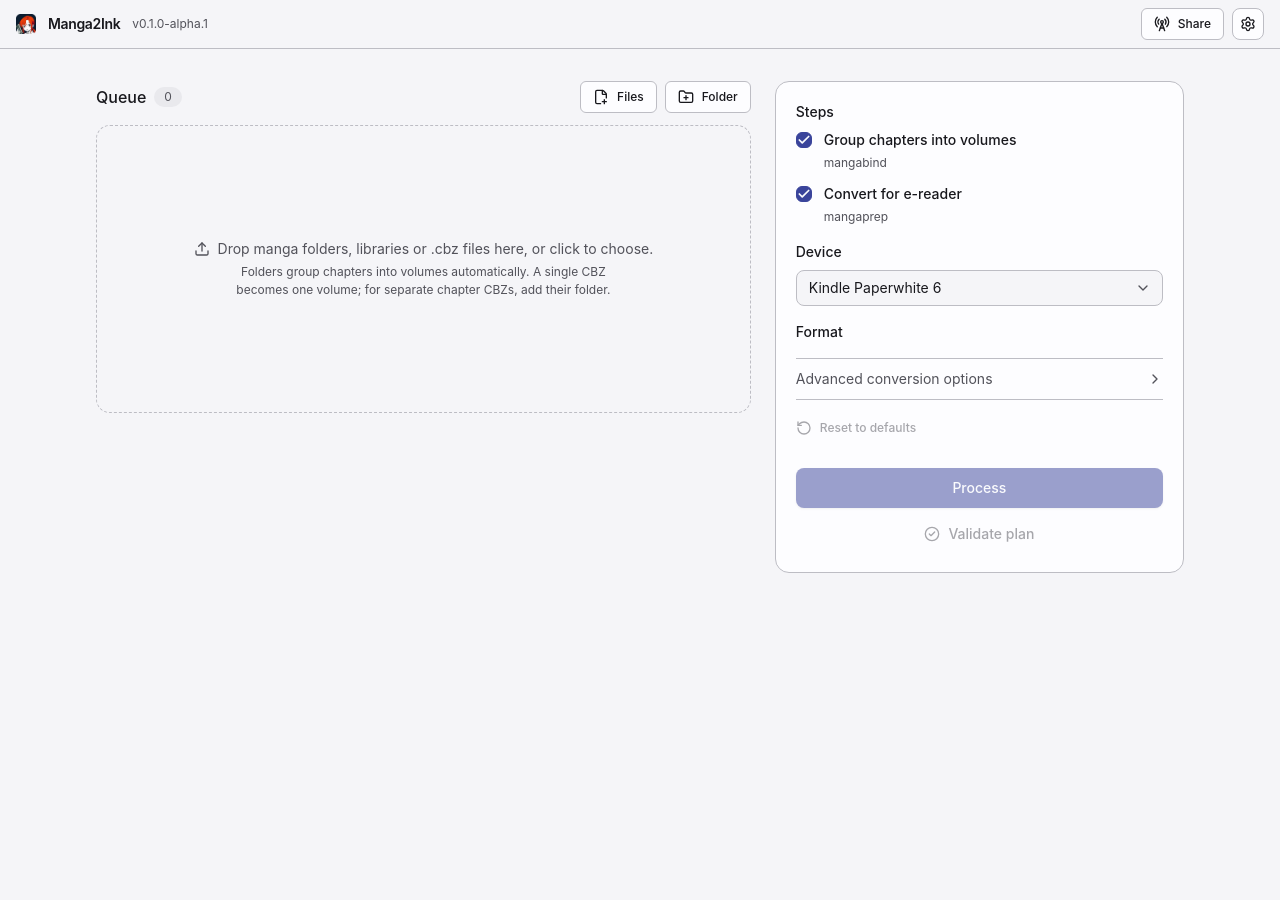
Test: libraries in the queue › is left out, with the reason, next to a folder when the run does not group
Click the button "Folder": [708, 97] box x1=665 y1=81 x2=751 y2=113
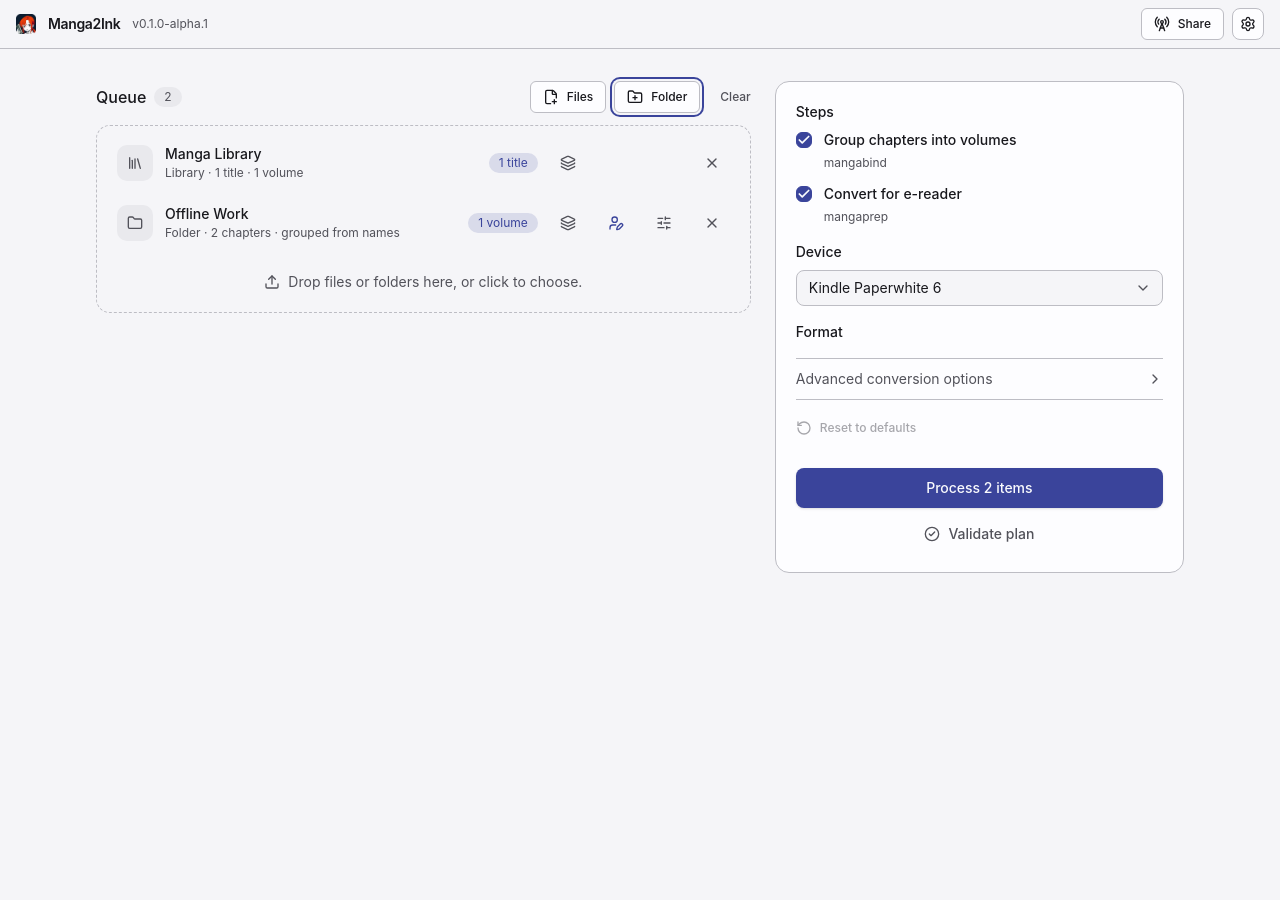
Click the checkbox named "Group chapters into volumes" next to "Group chapters into volumes": [804, 140] box x1=796 y1=132 x2=812 y2=148
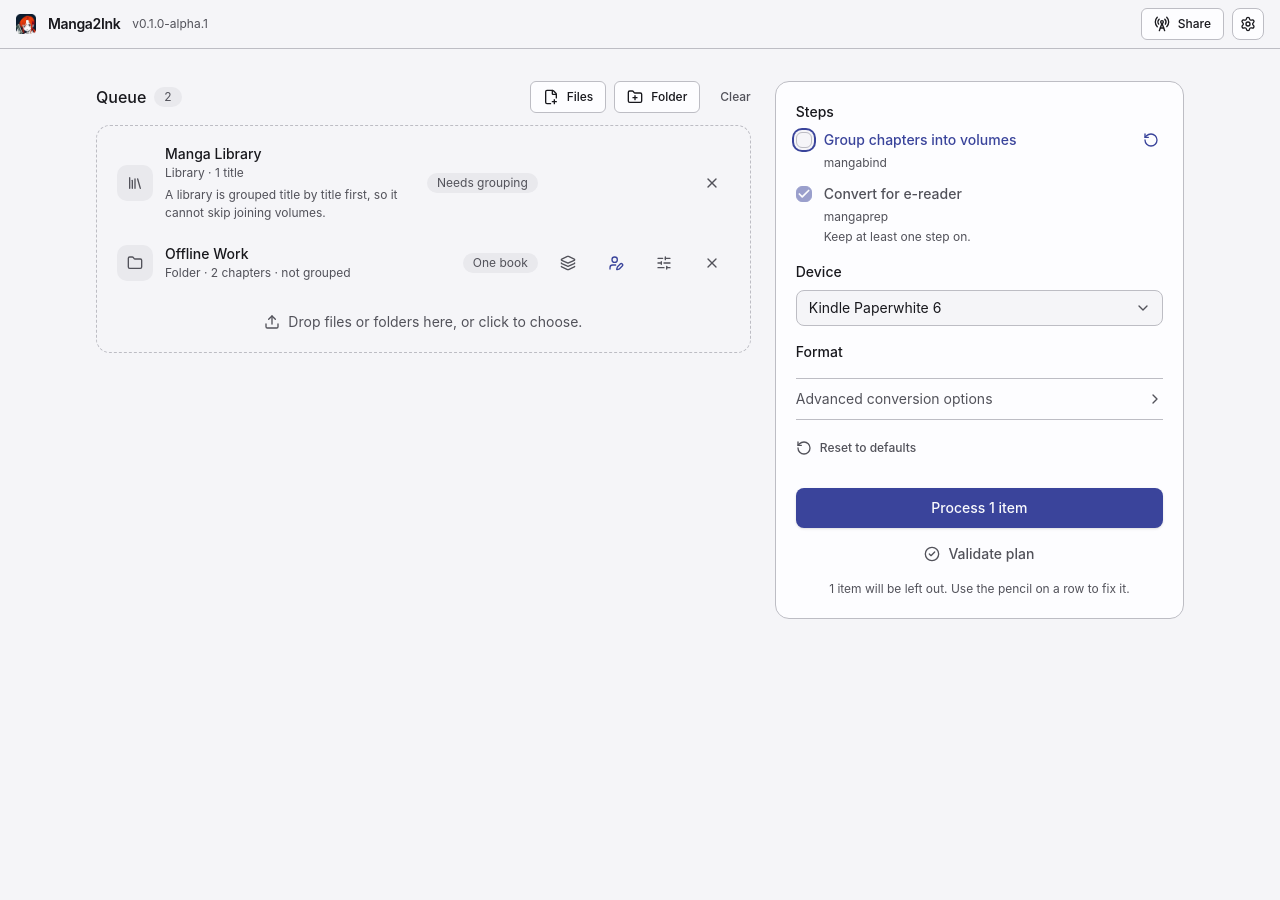
Expected: the text "Needs grouping" is shown, x1=427 y1=173 x2=538 y2=193
Click the button "Process 1 item": [979, 508] box x1=796 y1=488 x2=1163 y2=528
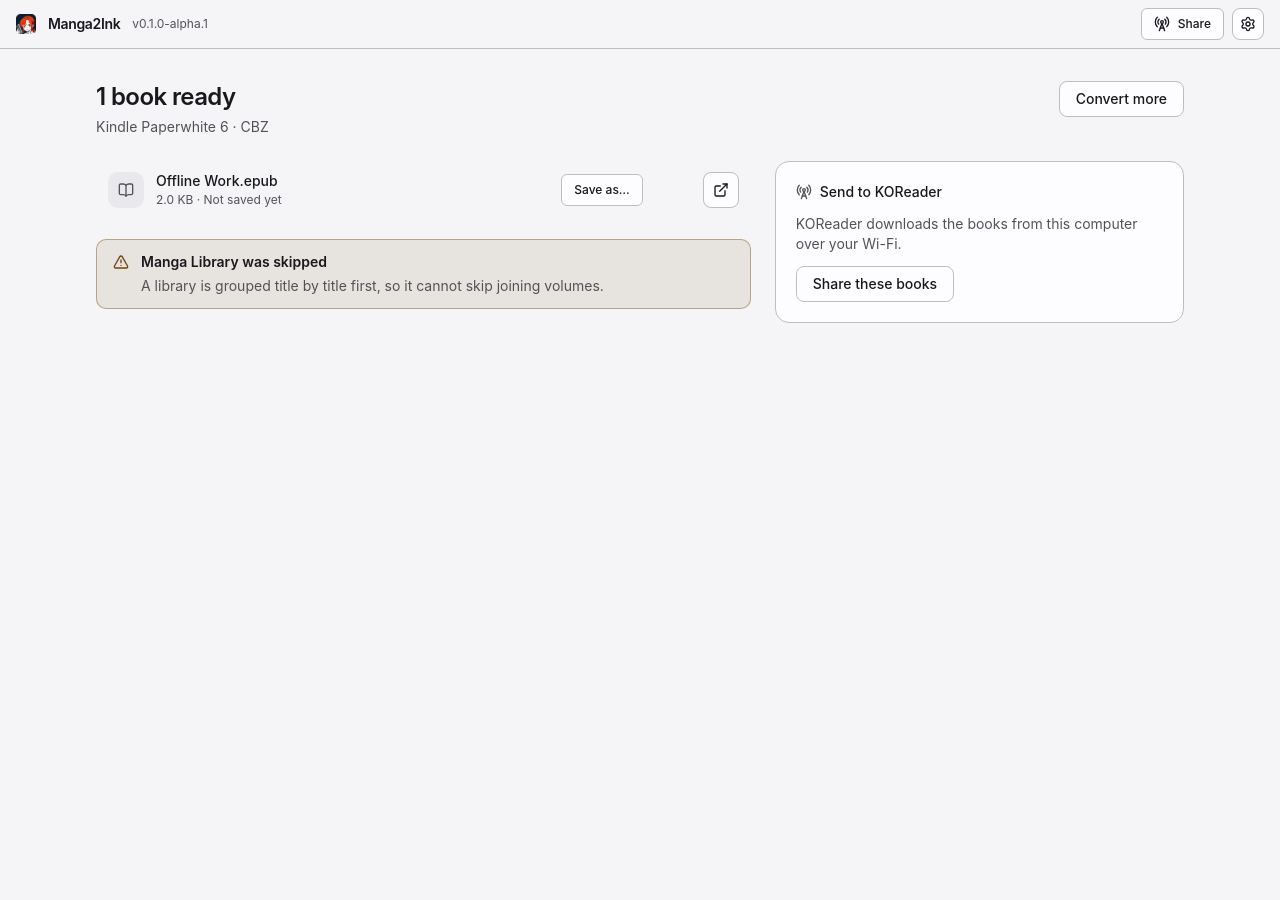
Expected: the heading "1 book ready" is shown, x1=96 y1=81 x2=235 y2=113
Expected: the heading "Manga Library was skipped" is shown, x1=141 y1=253 x2=327 y2=270
